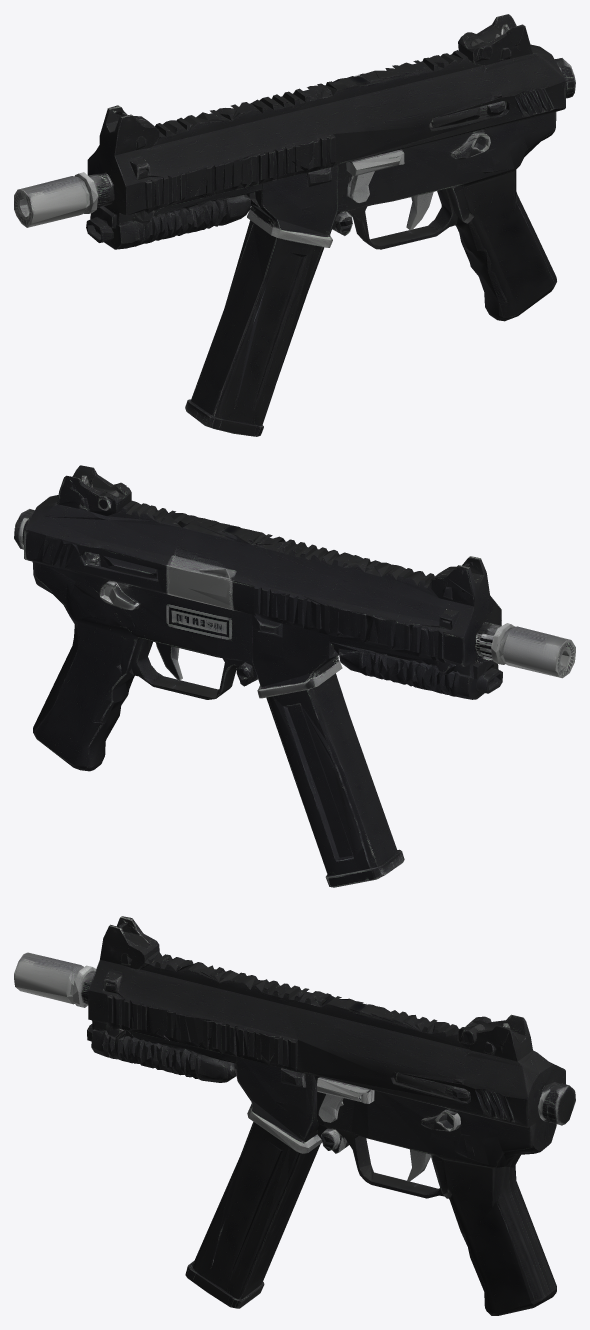
3 views of the same model, one above another, from view 1: azimuth 30°, elevation 25°; view 2: azimuth 150°, elevation 25°; view 3: azimuth 330°, elevation 25° (orthographic).
Size of the model in its own units: 1.9 by 1.16 by 0.2513.
1 material, 1 textured.
